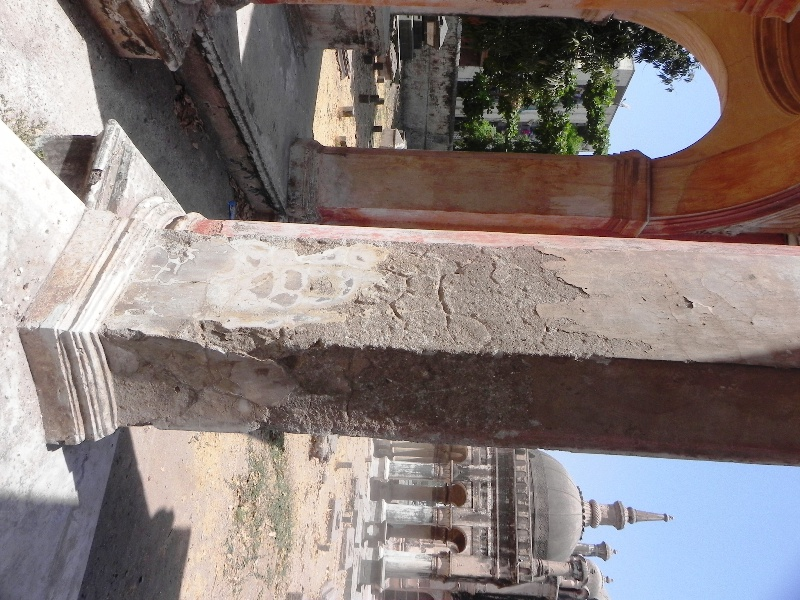Spalling: (202, 322, 542, 448), (337, 240, 645, 344)
